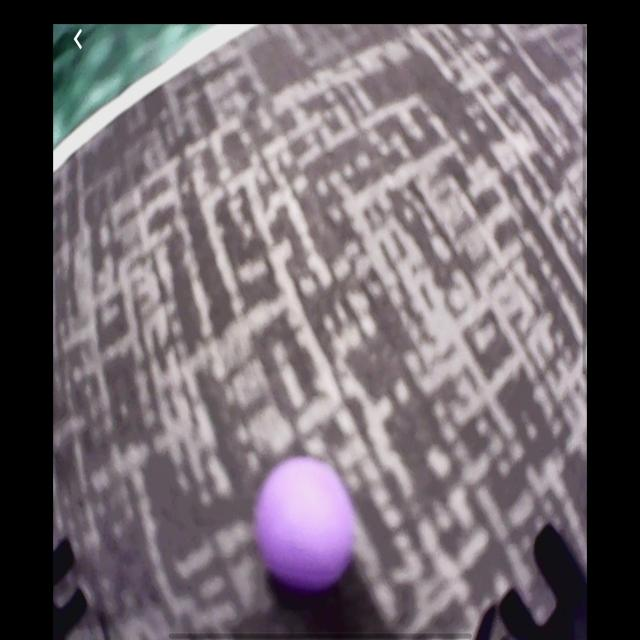ball: (258, 456, 355, 592)
